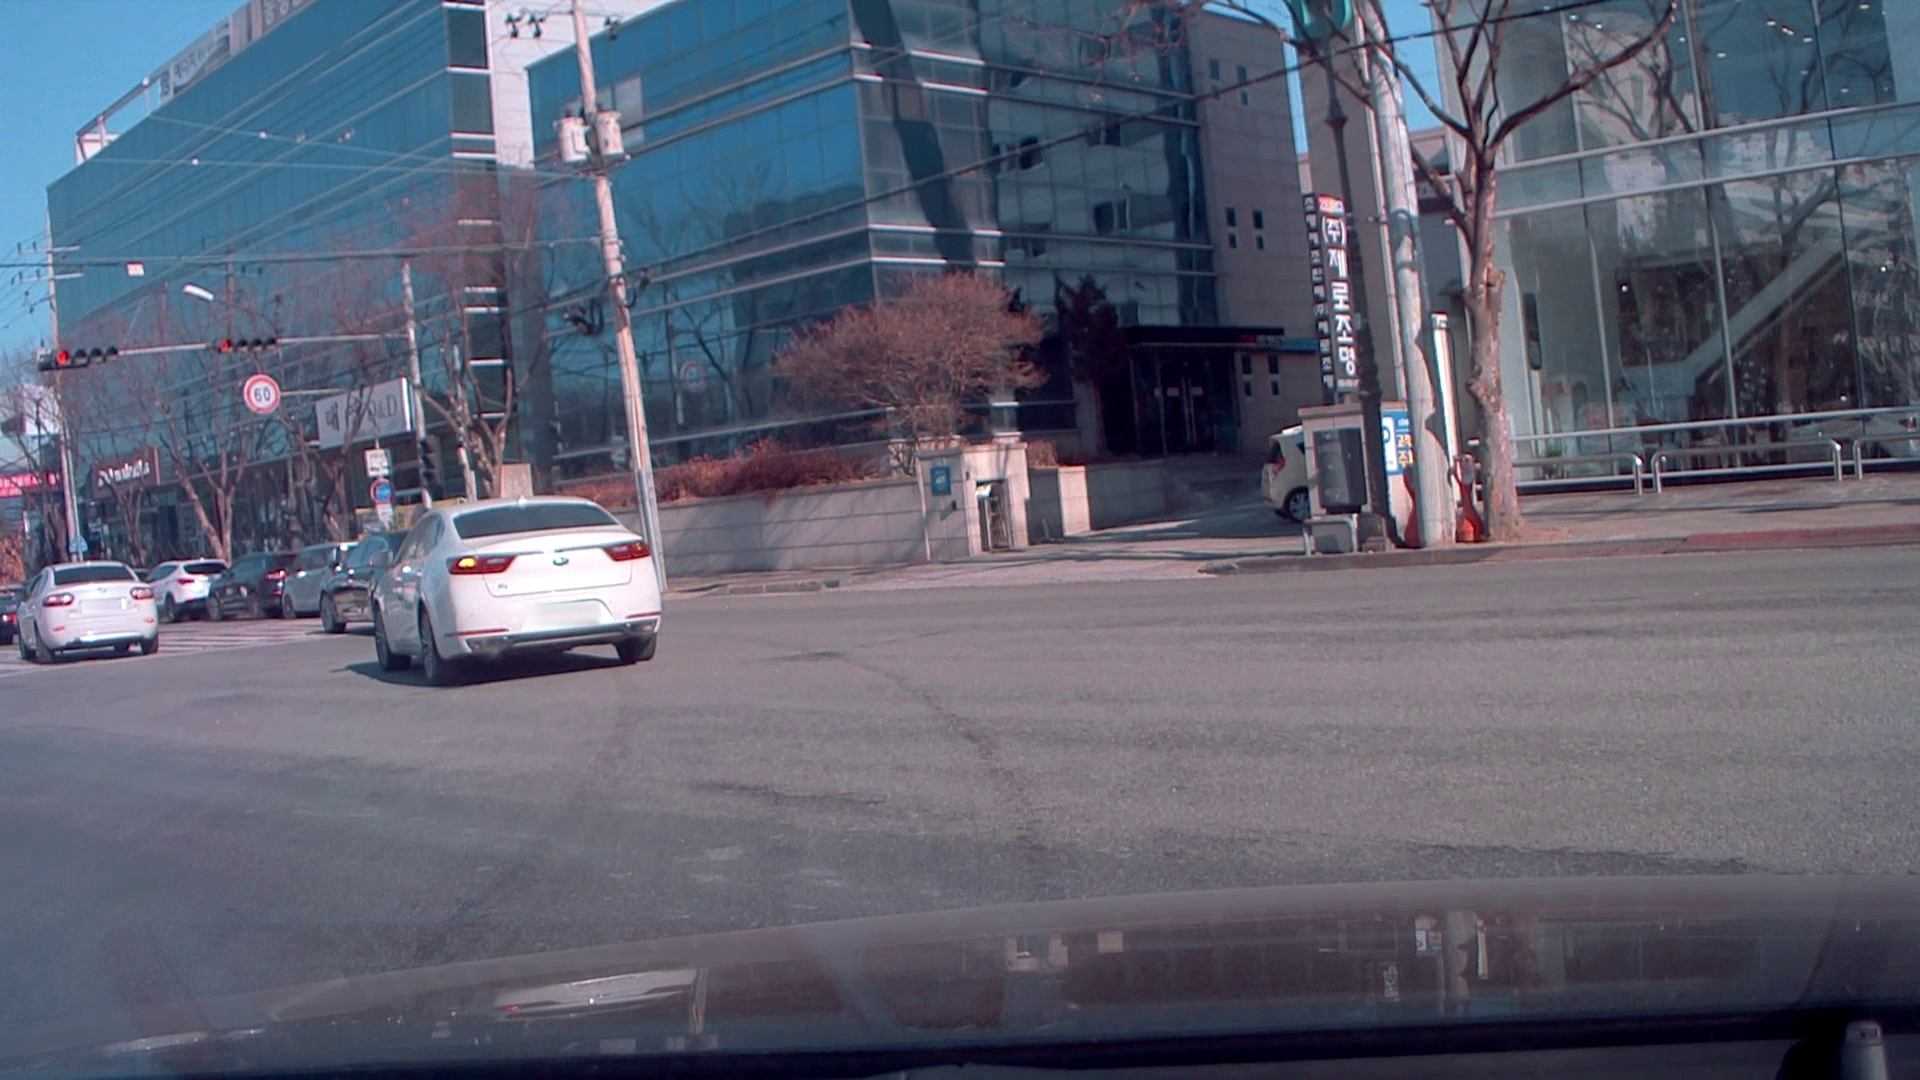trafficLight: (40, 340, 127, 375), (210, 335, 291, 357)
trafficSignCircle: (241, 376, 281, 414)
